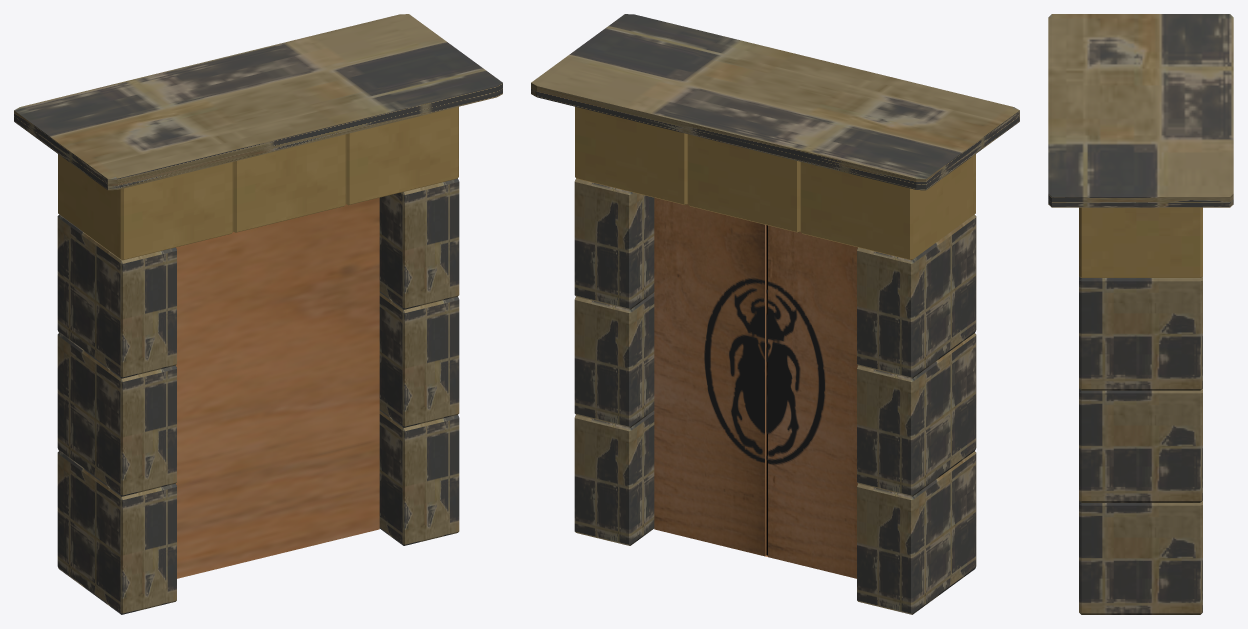
The model's file is door.fbx.
3 views of the same model, side by side, from view 1: azimuth 30°, elevation 25°; view 2: azimuth 150°, elevation 25°; view 3: azimuth 270°, elevation 25° (orthographic). The views are drawn at different scales.
Parts seen in each view (by area): view 1: Cube, Cube.010, Cube.003, Cube.001, Cube.002, Cube.009, Cube.005, Cube.004, Cube.006, Cube.008, Cube.007; view 2: Cube, Cube.010, Cube.003, Cube.001, Cube.002, Cube.009, Cube.005, Cube.004, Cube.006, Cube.008, Cube.007; view 3: Cube.010, Cube.006, Cube.005, Cube.004, Cube.007.
Part boxes in pixels (x1,y1,x2,y2): Cube: (176, 197, 379, 578); Cube.010: (14, 14, 502, 190); Cube.003: (57, 214, 176, 378); Cube.001: (57, 451, 176, 614); Cube.002: (57, 333, 176, 496); Cube.009: (58, 154, 233, 260); Cube.005: (379, 292, 459, 427); Cube.004: (379, 411, 459, 545); Cube.006: (379, 178, 459, 309); Cube.008: (233, 134, 346, 232); Cube.007: (346, 106, 458, 205); Cube: (654, 197, 857, 578); Cube.010: (531, 14, 1019, 190); Cube.003: (857, 214, 976, 378); Cube.001: (857, 451, 976, 614); Cube.002: (857, 333, 976, 496); Cube.009: (800, 154, 975, 260); Cube.005: (574, 292, 654, 427); Cube.004: (574, 411, 654, 545); Cube.006: (574, 178, 654, 309); Cube.008: (687, 134, 800, 232); Cube.007: (575, 106, 687, 205); Cube.010: (1048, 14, 1233, 207); Cube.006: (1079, 276, 1202, 390); Cube.005: (1079, 389, 1202, 502); Cube.004: (1079, 501, 1202, 614); Cube.007: (1079, 207, 1202, 277).
Size of the model in its own units: 700 by 770 by 300.
